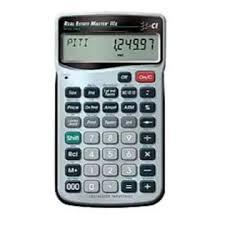Calculator: (44, 10, 173, 210)
